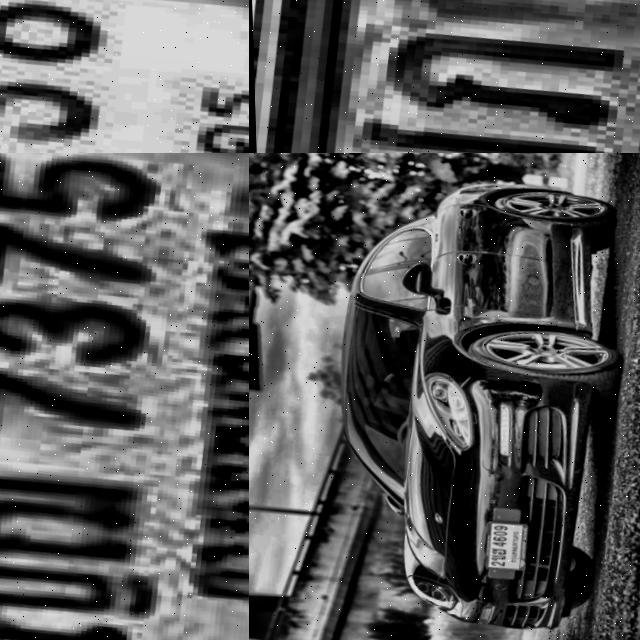license-plate: (0, 153, 249, 640), (249, 0, 640, 153), (0, 0, 249, 153), (475, 524, 525, 581)
